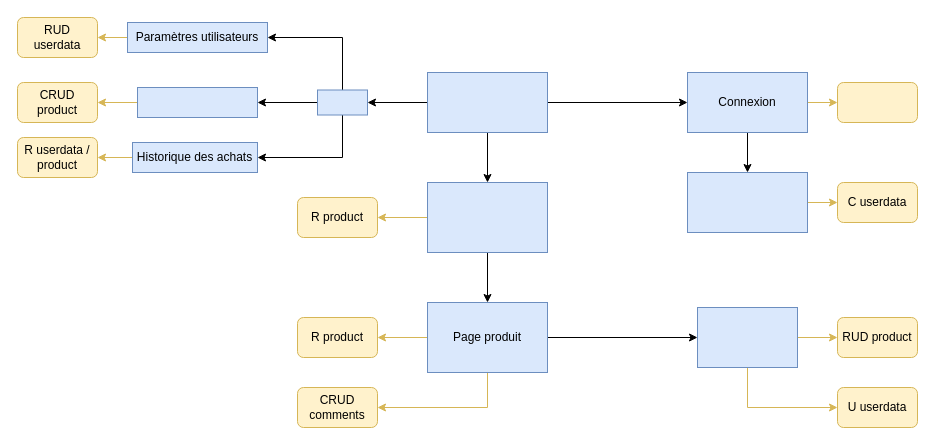
The diagram is 935 pixels wide and 445 high, and some of its shapes have lost their labels. Here are the shapes that lost their labels. From the top down, the centre of each, then its label:
At [197,102]: "Gérer les ventes".
At [342,102]: "Profil".
At [487,102]: "Accueil".
At [877,102]: "R userdata".
At [487,217]: "résultats".
At [747,202]: "Inscription".
At [747,337]: "Panier".
